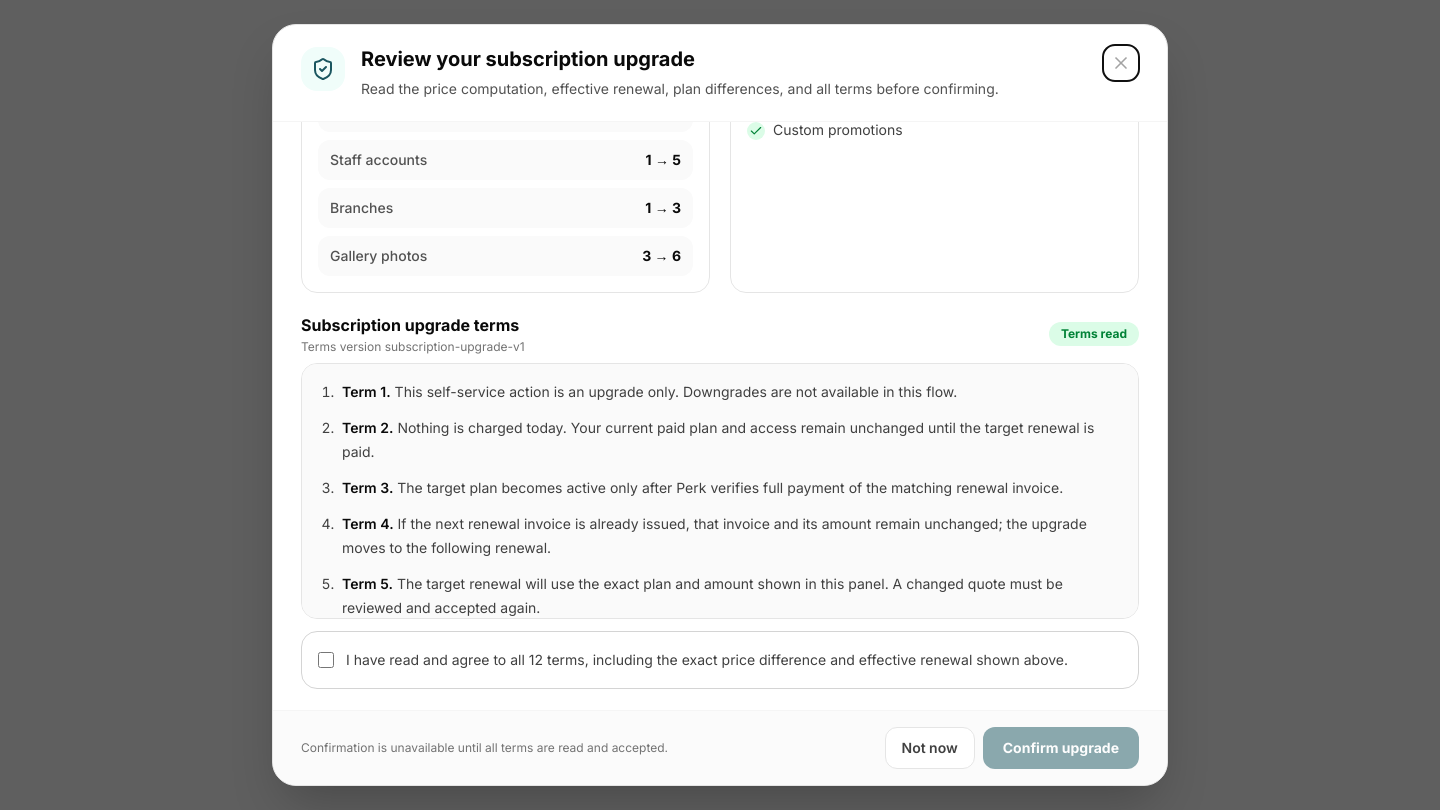
Scenario: SubscriptionUpgradeTermsModal › requires acknowledgement before confirmation
The image size is (1440, 810).
(page scrolled)
Check: the button "Confirm upgrade" is disabled, box [983,727,1139,769]
Click the checkbox.
click(326, 660)  # box [318,652,334,668]
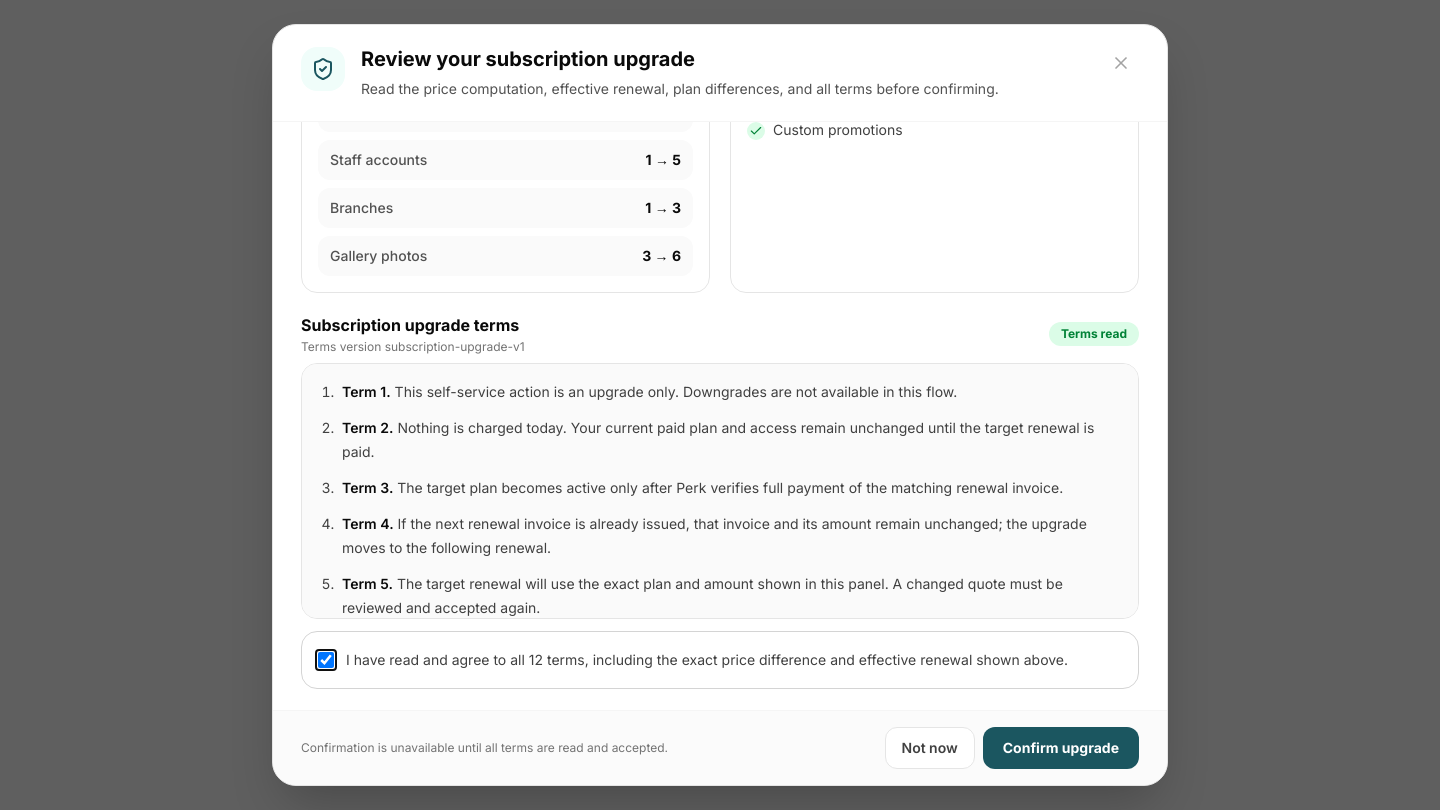
Check: the button "Confirm upgrade" is enabled, box [983,727,1139,769]
